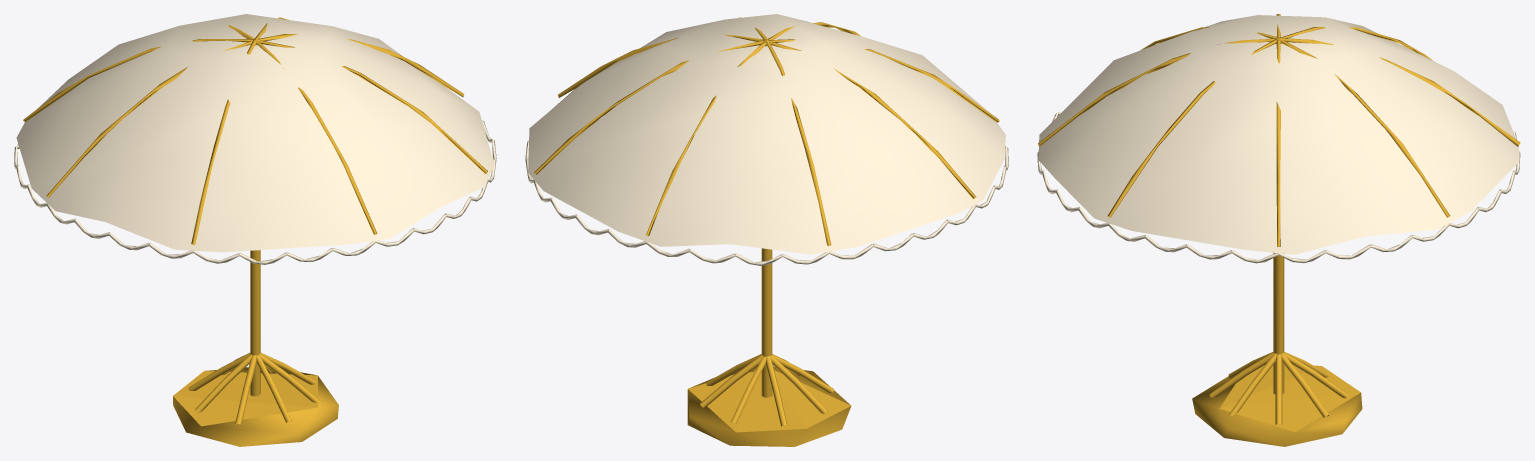
The model's file is kart.umbrella.lace.lod1.glb.
The picture shows the model from 3 angles, left to right: view 1: azimuth 30°, elevation 25°; view 2: azimuth 150°, elevation 25°; view 3: azimuth 270°, elevation 25°; orthographic projection.
Parts seen in each view (by area): view 1: lace_canopy, parasol_foot, umbrella_shaft, rib.004, rib.007, rib.006, rib.003, rib.005, rib, foot_scroll.004, foot_scroll.007, foot_scroll.005; view 2: lace_canopy, parasol_foot, umbrella_shaft, rib.001, rib.003, rib.004, rib.002, rib, rib.005, foot_scroll.001, foot_scroll.004, foot_scroll.003; view 3: lace_canopy, parasol_foot, umbrella_shaft, rib.001, rib.006, rib.007, rib.002, rib, foot_scroll, foot_scroll.001, foot_scroll.002, foot_scroll.006 (+1 smaller).
Boxes of the visible parts, x1,y1,x2,y2 form: lace_canopy: (16, 14, 494, 252); parasol_foot: (173, 367, 338, 446); umbrella_shaft: (250, 44, 260, 396); rib.004: (46, 41, 252, 197); rib.007: (255, 40, 487, 173); rib.006: (256, 41, 377, 234); rib.003: (23, 39, 255, 121); rib.005: (191, 40, 256, 244); rib: (257, 34, 464, 97); foot_scroll.004: (195, 354, 252, 412); foot_scroll.007: (259, 353, 322, 403); foot_scroll.005: (235, 355, 256, 425); lace_canopy: (528, 14, 1005, 254); parasol_foot: (687, 366, 851, 446); umbrella_shaft: (761, 44, 772, 397); rib.001: (534, 39, 766, 174); rib.003: (765, 41, 831, 246); rib.004: (770, 41, 975, 199); rib.002: (646, 41, 766, 235); rib: (558, 34, 764, 97); rib.005: (767, 39, 999, 122); foot_scroll.001: (700, 355, 762, 408); foot_scroll.004: (770, 355, 827, 413); foot_scroll.003: (766, 356, 787, 426); lace_canopy: (1038, 15, 1519, 254); parasol_foot: (1192, 365, 1362, 446); umbrella_shaft: (1273, 42, 1284, 394); rib.001: (1277, 38, 1450, 217); rib.006: (1038, 38, 1274, 146); rib.007: (1107, 38, 1277, 217); rib.002: (1281, 38, 1520, 146); rib: (1276, 40, 1280, 246); foot_scroll: (1275, 354, 1282, 424); foot_scroll.001: (1281, 353, 1328, 417); foot_scroll.002: (1283, 352, 1347, 398); foot_scroll.006: (1209, 352, 1273, 397).
Bounding box in the file's own units: 0.48 × 0.4092 × 0.4802.
